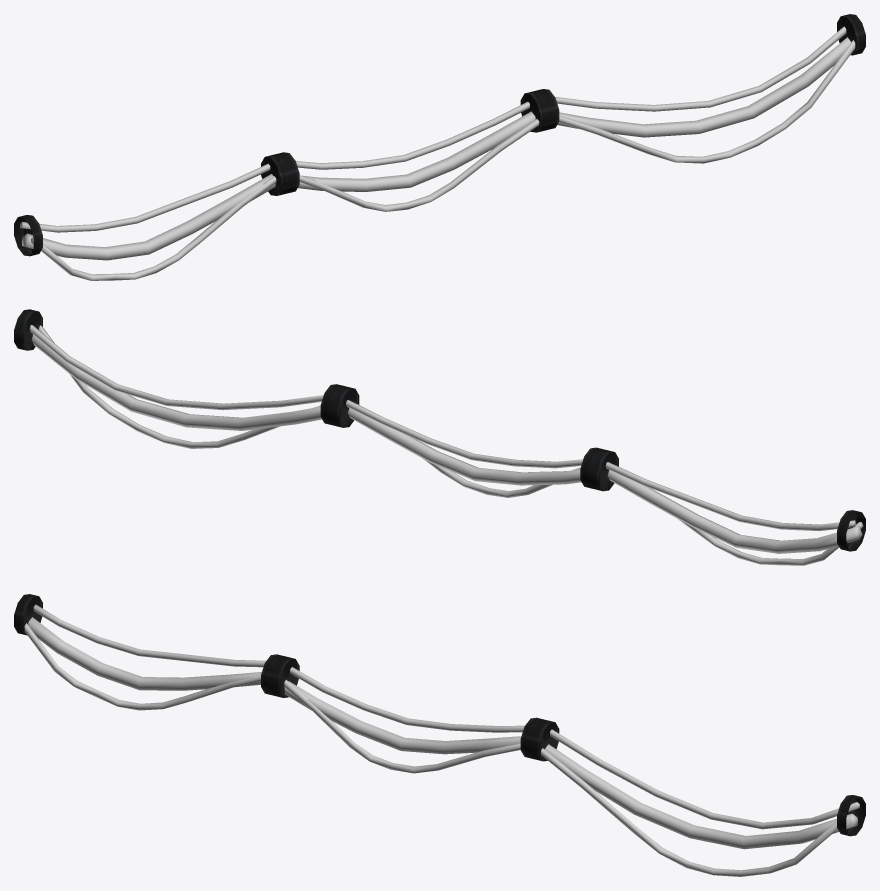
Rendered from cable_4m.DAE.
3 renders of one model, top to bottom at view 1: azimuth 30°, elevation 25°; view 2: azimuth 150°, elevation 25°; view 3: azimuth 330°, elevation 25°, orthographic.
Parts seen in each view (by area): view 1: cable, cable_ring; view 2: cable, cable_ring; view 3: cable, cable_ring.
Boxes of the visible parts, <box> form: cable: <box>20,26,855,280</box>; cable_ring: <box>14,14,865,256</box>; cable: <box>29,325,863,565</box>; cable_ring: <box>14,309,865,551</box>; cable: <box>24,604,859,876</box>; cable_ring: <box>14,594,865,836</box>.
Size of the model in its own units: 4.03 by 0.4817 by 0.1637.
